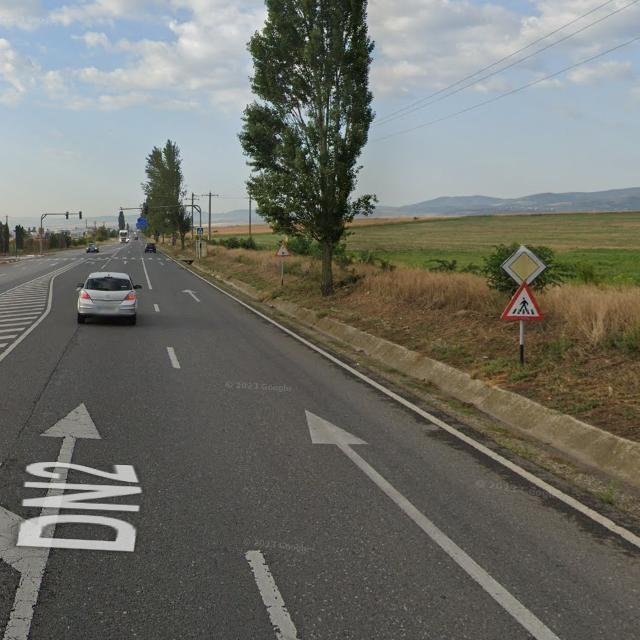warn_crosswalk: (500, 280, 545, 320)
